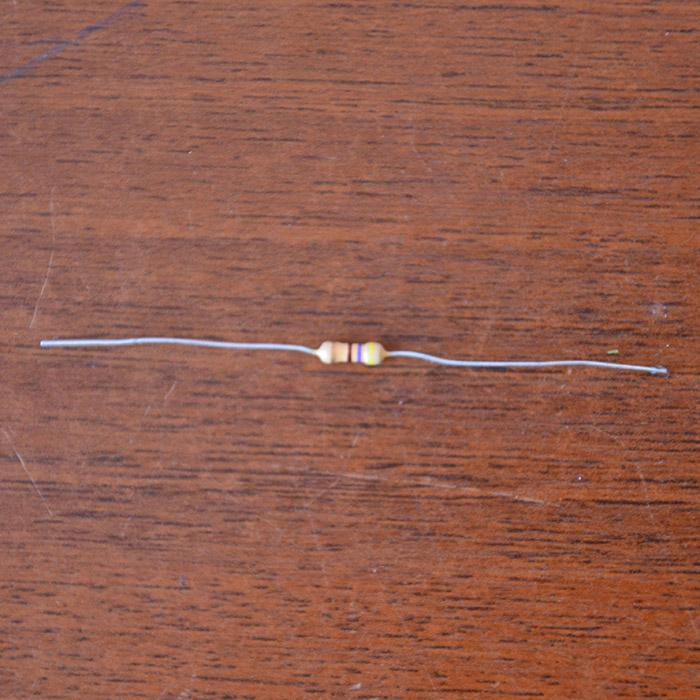resistor: (315, 339, 389, 366)
